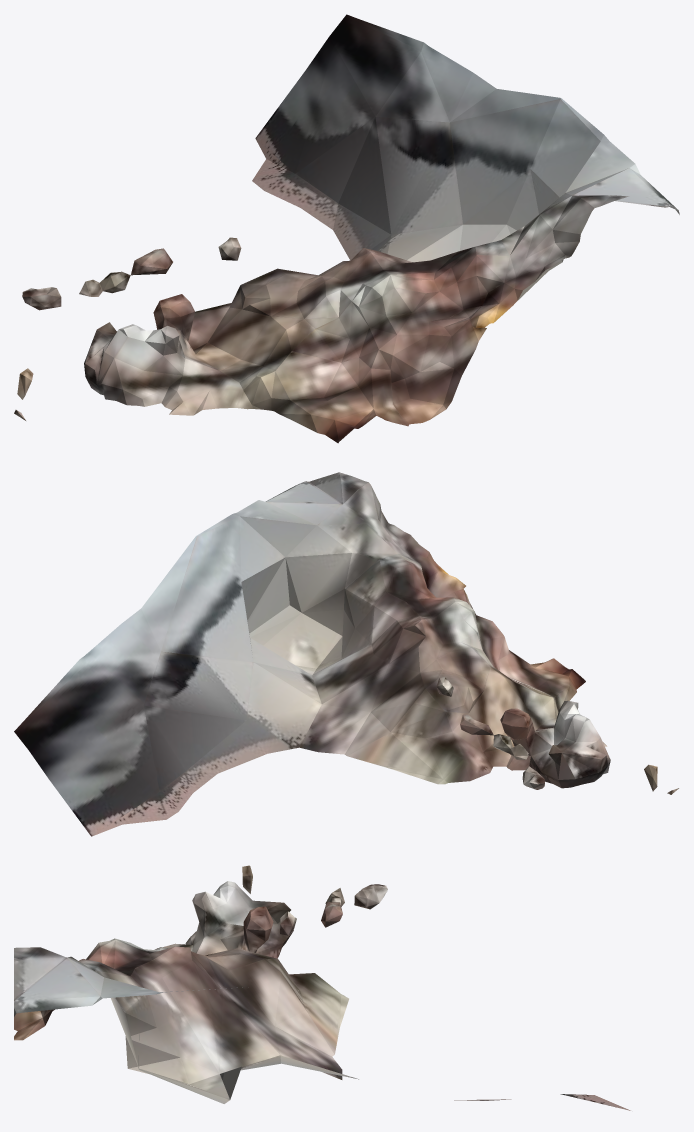
3 views of the same model, one above another, from view 1: azimuth 30°, elevation 25°; view 2: azimuth 150°, elevation 25°; view 3: azimuth 270°, elevation 25° (orthographic). The views are drawn at different scales.
Bounding box in the file's own units: 1.61 × 0.488 × 1.67.
2 materials, 2 textured.
